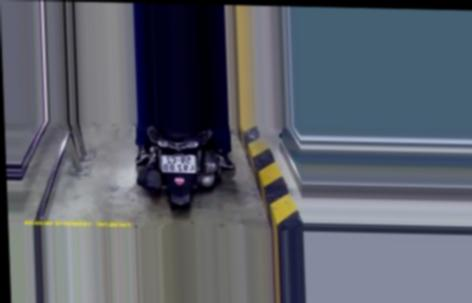License_Plate: (161, 152, 202, 176)
